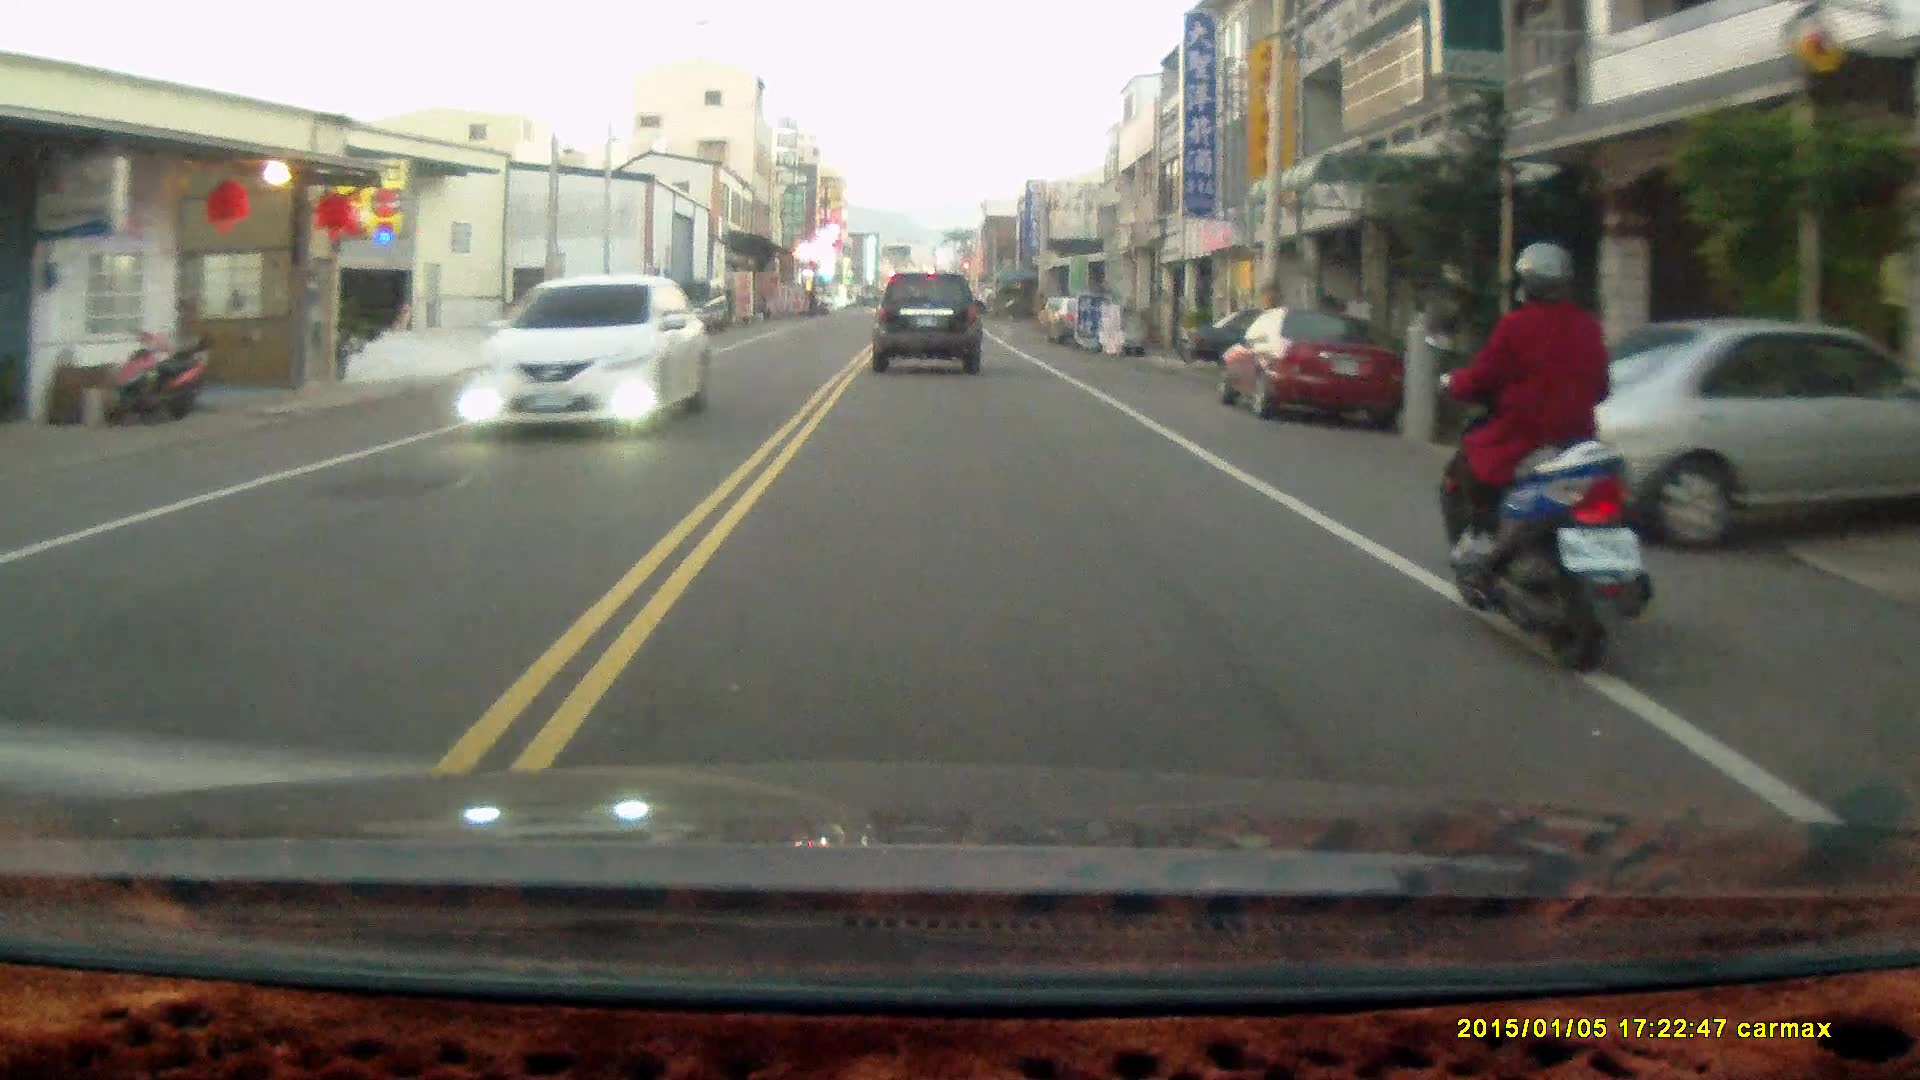rider: (1426, 241, 1657, 683)
vehicle: (1494, 323, 1920, 557), (461, 274, 714, 439), (1216, 307, 1407, 430), (874, 273, 985, 380), (656, 278, 732, 335)
